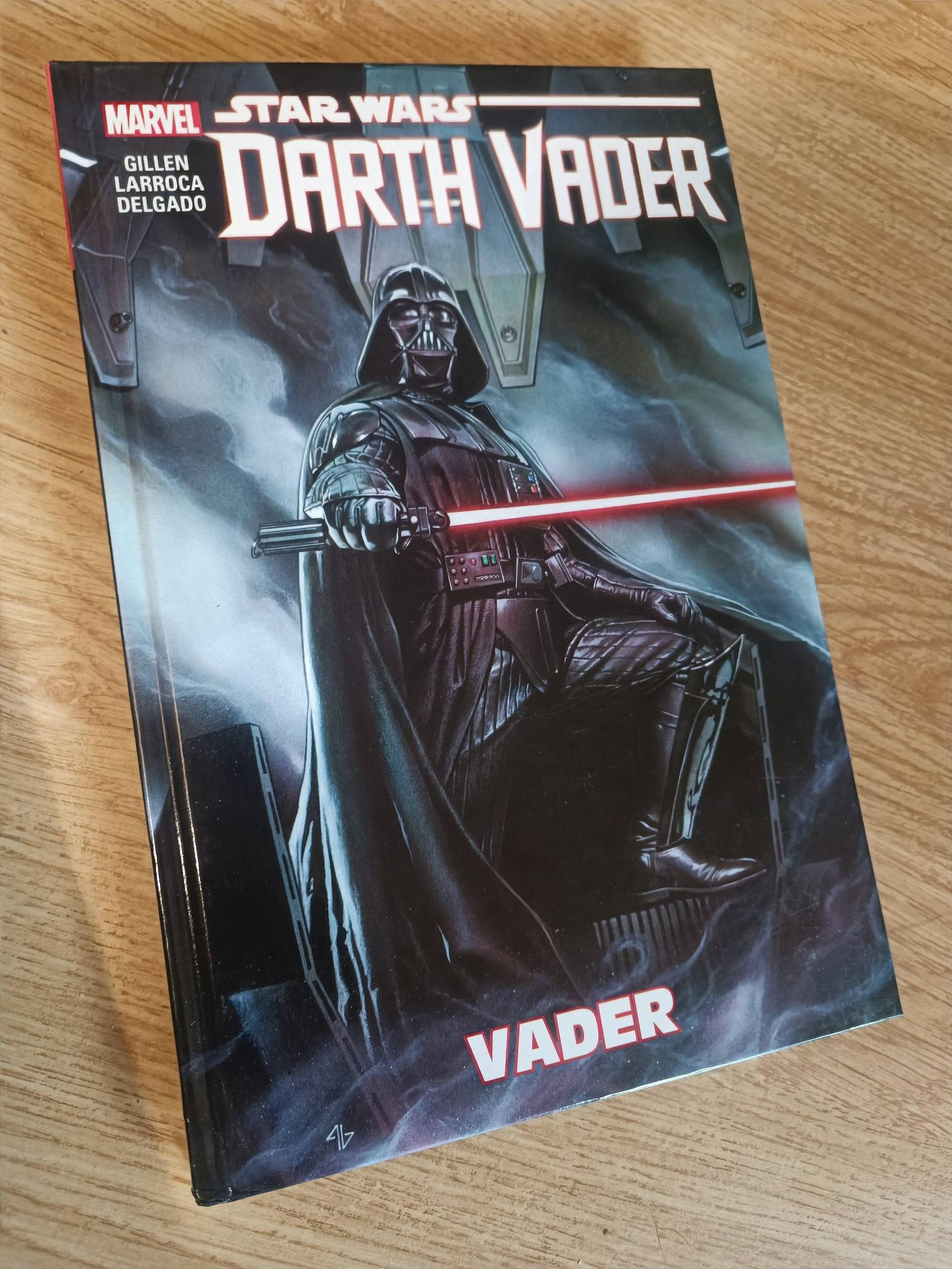comic: (47, 0, 912, 1204)
